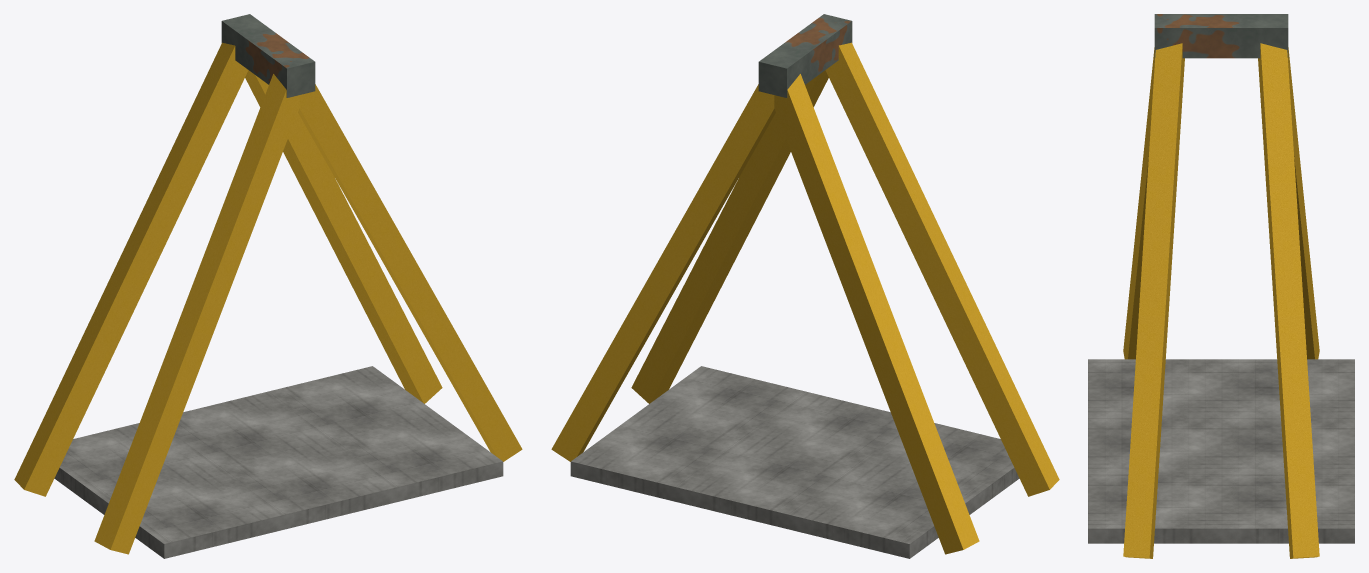
Rendered from ferris_support.obj.
The picture shows the model from 3 angles, left to right: view 1: azimuth 30°, elevation 25°; view 2: azimuth 150°, elevation 25°; view 3: azimuth 270°, elevation 25°; orthographic projection. The views are drawn at different scales.
Parts seen in each view (by area): view 1: Platform_Concrete, Leg-7.02.5_Yellow, Leg-7.0-2.5_Yellow, Leg7.02.5_Yellow, Leg7.0-2.5_Yellow, Axle_Steel; view 2: Platform_Concrete, Leg-7.0-2.5_Yellow, Leg-7.02.5_Yellow, Leg7.0-2.5_Yellow, Leg7.02.5_Yellow, Axle_Steel; view 3: Platform_Concrete, Leg7.0-2.5_Yellow, Leg7.02.5_Yellow, Axle_Steel, Leg-7.0-2.5_Yellow, Leg-7.02.5_Yellow.
Boxes of the visible parts, box(x1,y1,x2,y2) form: Platform_Concrete: box(54, 366, 503, 558); Leg-7.02.5_Yellow: box(94, 74, 299, 554); Leg-7.0-2.5_Yellow: box(14, 42, 248, 496); Leg7.02.5_Yellow: box(298, 84, 522, 461); Leg7.0-2.5_Yellow: box(245, 70, 442, 403); Axle_Steel: box(221, 14, 315, 97); Platform_Concrete: box(570, 366, 1019, 558); Leg-7.0-2.5_Yellow: box(774, 74, 979, 554); Leg-7.02.5_Yellow: box(825, 42, 1059, 496); Leg7.0-2.5_Yellow: box(551, 84, 775, 461); Leg7.02.5_Yellow: box(631, 70, 828, 403); Axle_Steel: box(758, 14, 852, 97); Platform_Concrete: box(1088, 359, 1354, 543); Leg7.0-2.5_Yellow: box(1258, 43, 1319, 558); Leg7.02.5_Yellow: box(1123, 43, 1184, 558); Axle_Steel: box(1154, 14, 1288, 58); Leg-7.0-2.5_Yellow: box(1288, 47, 1319, 359); Leg-7.02.5_Yellow: box(1123, 47, 1154, 359).
Bounding box in the file's own units: 14.82 × 14.68 × 8.
3 materials, 3 textured.
